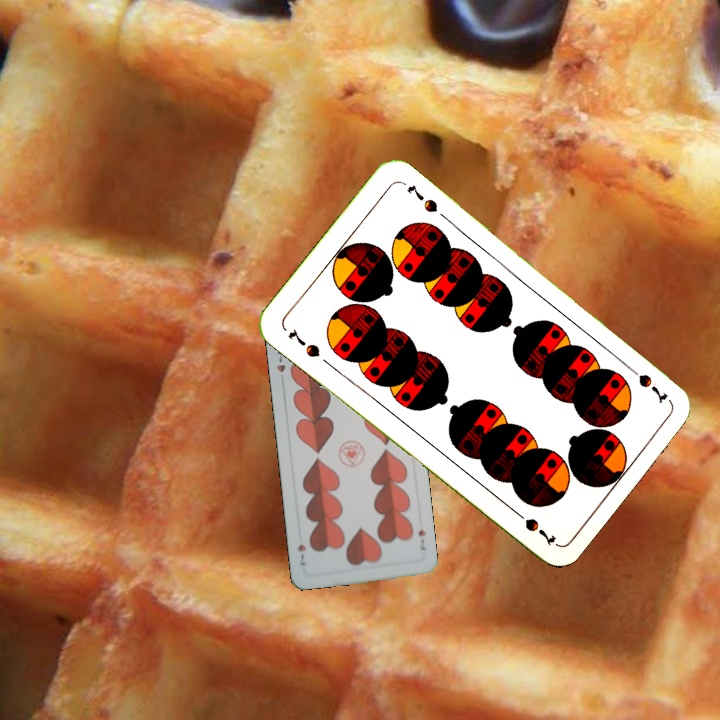H7: (272, 347, 288, 386), (414, 526, 428, 553)
S7: (622, 360, 670, 406), (284, 324, 323, 360)
